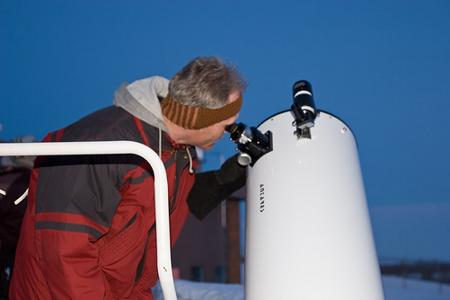person: (10, 57, 243, 298)
